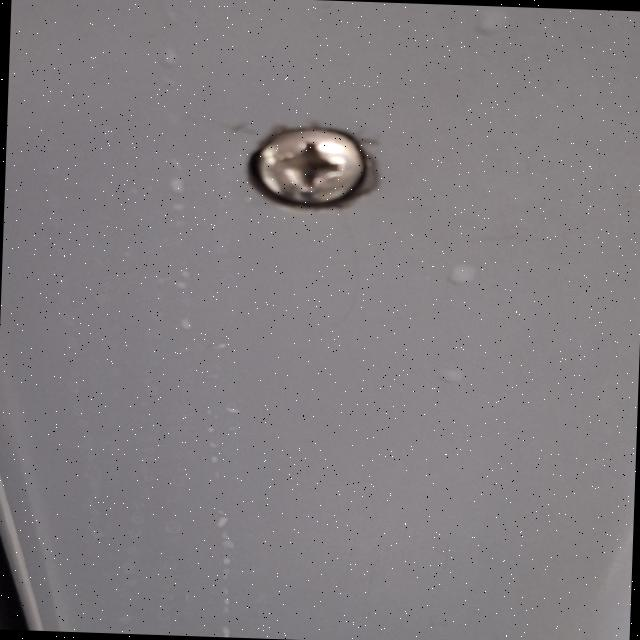Phillips: (244, 120, 394, 220)
